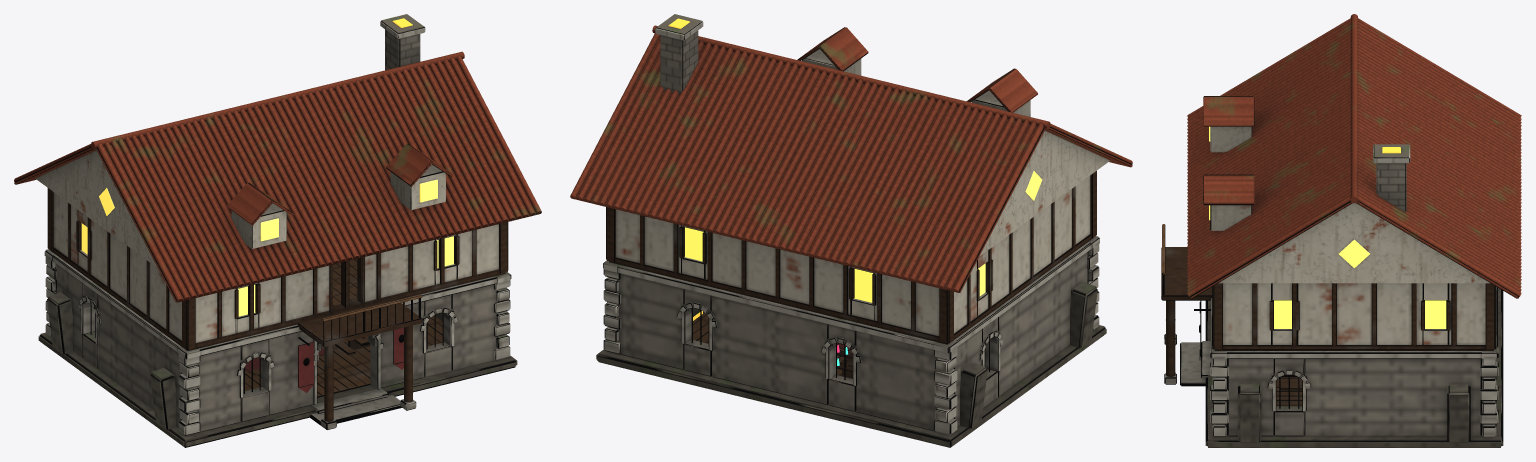
Rendered from edificio_casarao_cidade.glb.
3 views of the same model, side by side, from view 1: azimuth 30°, elevation 25°; view 2: azimuth 150°, elevation 25°; view 3: azimuth 270°, elevation 25° (orthographic). The views are drawn at different scales.
Parts seen in each view (by area): view 1: edificio_casarao_cidade_telhado, edificio_casarao_cidade, edificio_casarao_cidade_andar2; view 2: edificio_casarao_cidade_telhado, edificio_casarao_cidade, edificio_casarao_cidade_andar2; view 3: edificio_casarao_cidade_telhado, edificio_casarao_cidade, edificio_casarao_cidade_andar2.
Part boxes in pixels (x1=…): edificio_casarao_cidade_telhado: x1=14, y1=14, x2=541, y2=302; edificio_casarao_cidade: x1=38, y1=249, x2=517, y2=447; edificio_casarao_cidade_andar2: x1=47, y1=188, x2=508, y2=350; edificio_casarao_cidade_telhado: x1=570, y1=14, x2=1132, y2=292; edificio_casarao_cidade: x1=596, y1=236, x2=1106, y2=447; edificio_casarao_cidade_andar2: x1=606, y1=171, x2=1096, y2=344; edificio_casarao_cidade_telhado: x1=1187, y1=14, x2=1521, y2=298; edificio_casarao_cidade: x1=1161, y1=247, x2=1503, y2=447; edificio_casarao_cidade_andar2: x1=1162, y1=224, x2=1496, y2=350.
Bounding box in the file's own units: 18.6 × 13.63 × 15.49.
Materials: 8 (3 with a texture image).
